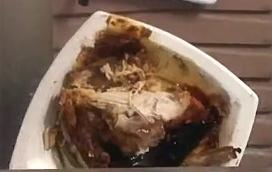chicken: (45, 75, 190, 167)
